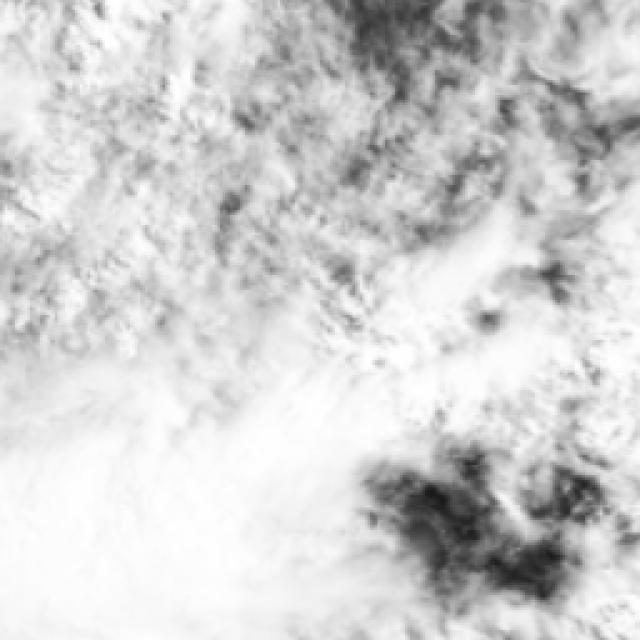CB: (0, 447, 246, 640)
